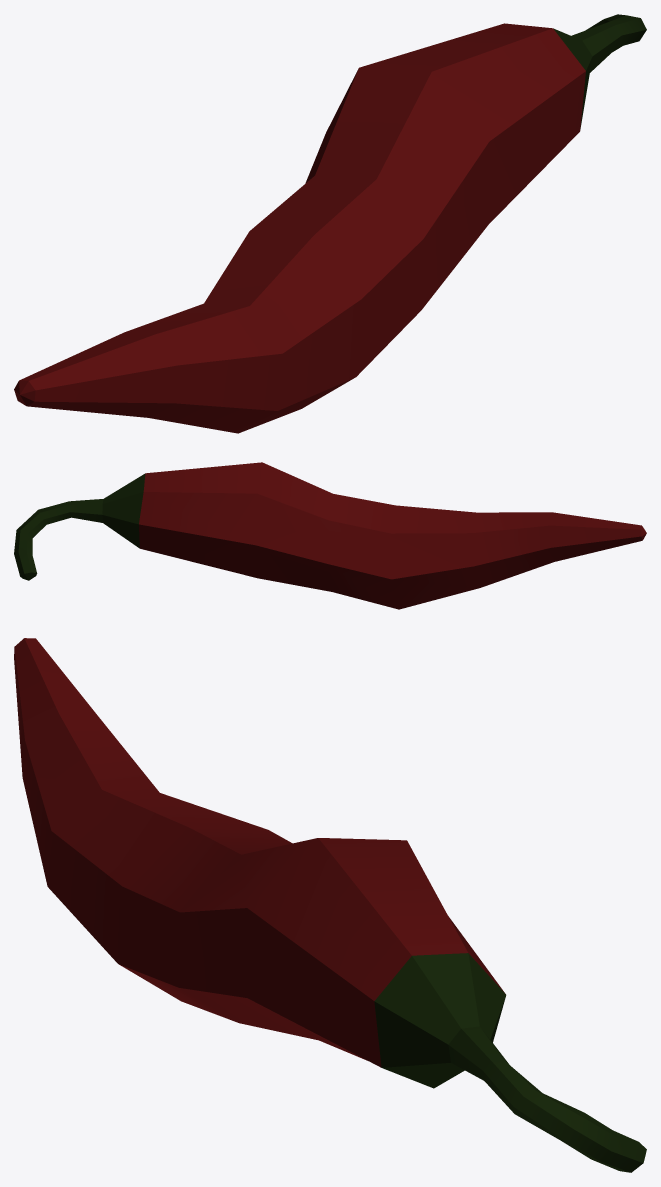
File: MESH_Chili.fbx
3 renders of one model, top to bottom at view 1: azimuth 30°, elevation 25°; view 2: azimuth 150°, elevation 25°; view 3: azimuth 270°, elevation 25°, orthographic. The views are drawn at different scales.
Visible parts, largest first — view 1: MESH_Chili; view 2: MESH_Chili; view 3: MESH_Chili.
Boxes of the visible parts, x1=… form: MESH_Chili: x1=14, y1=14, x2=646, y2=433; MESH_Chili: x1=14, y1=462, x2=646, y2=609; MESH_Chili: x1=14, y1=638, x2=646, y2=1172.
Bounding box in the file's own units: 0.1774 × 0.0478 × 0.103.
